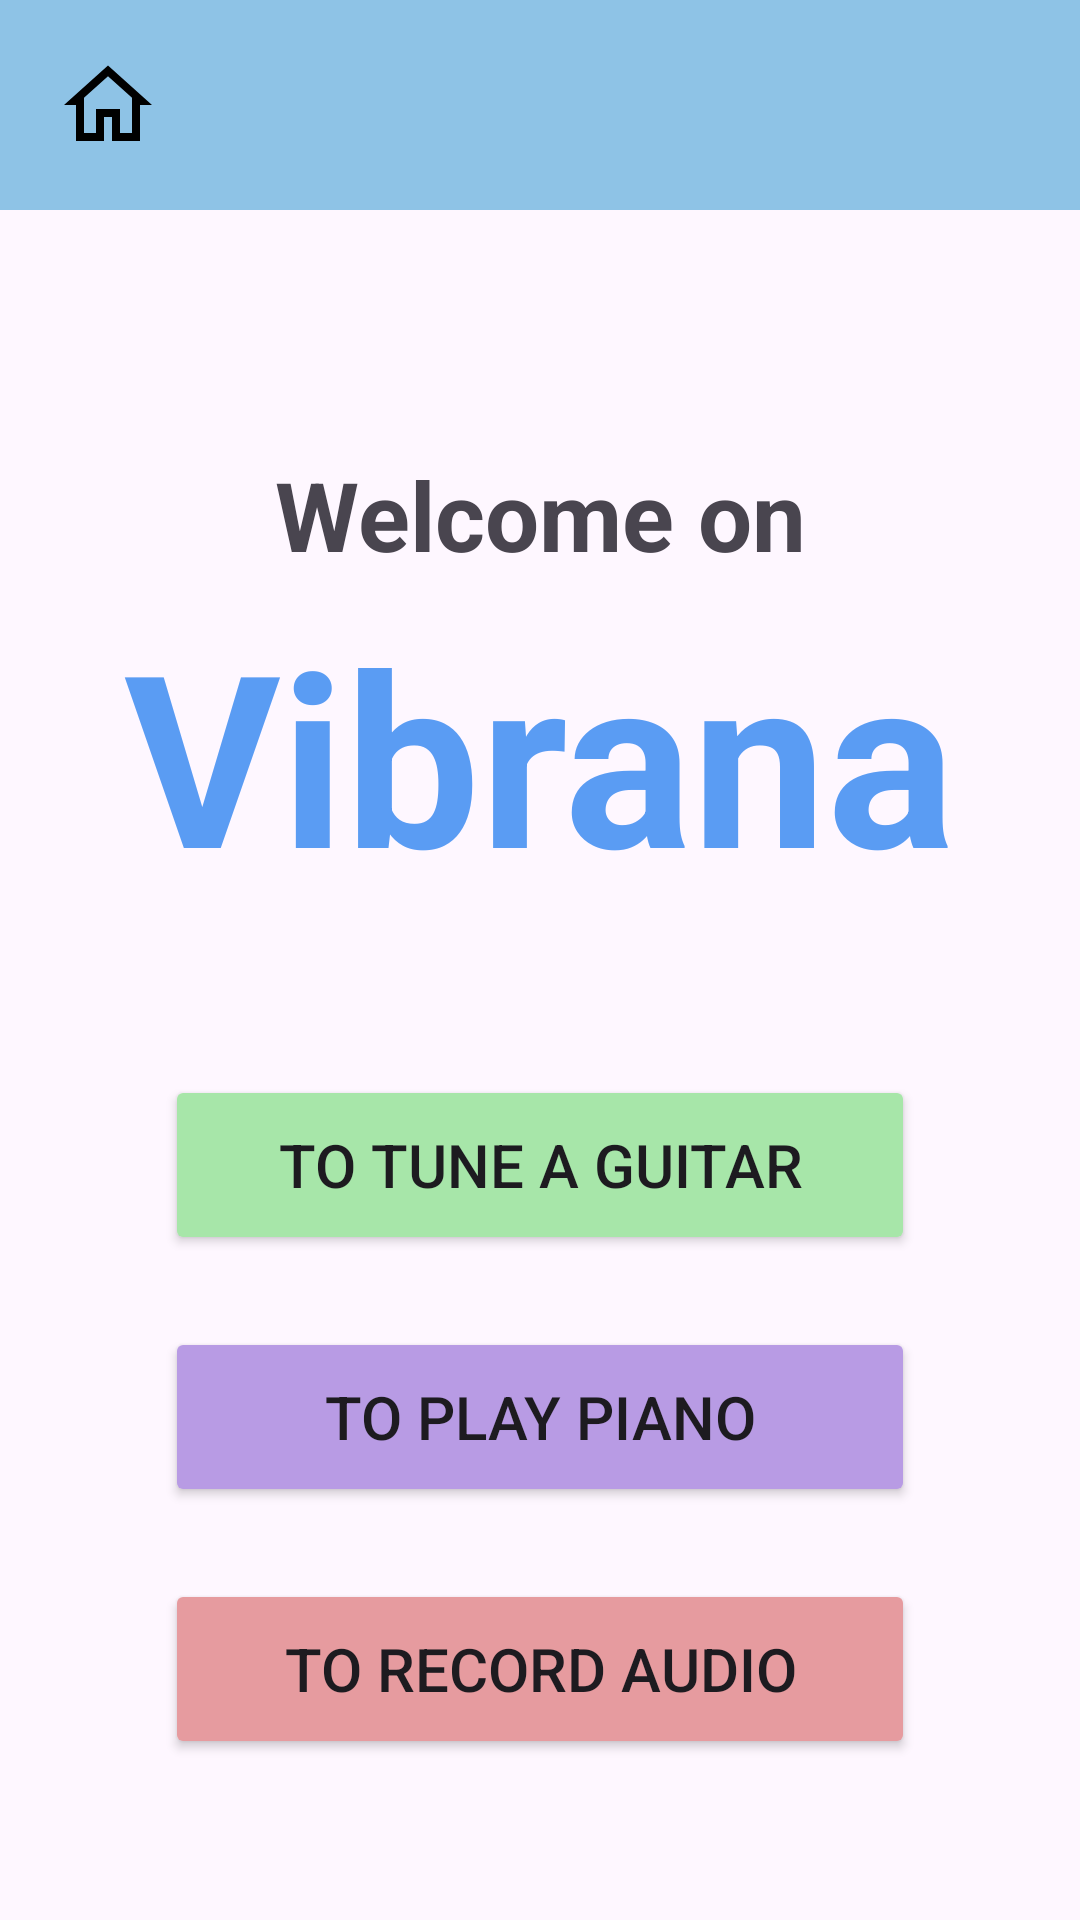

Icon bounding boxes for this 1080w x 1920h phone screenshot, format (x1, y1, x2, y2):
Home: (64, 65, 152, 141)
